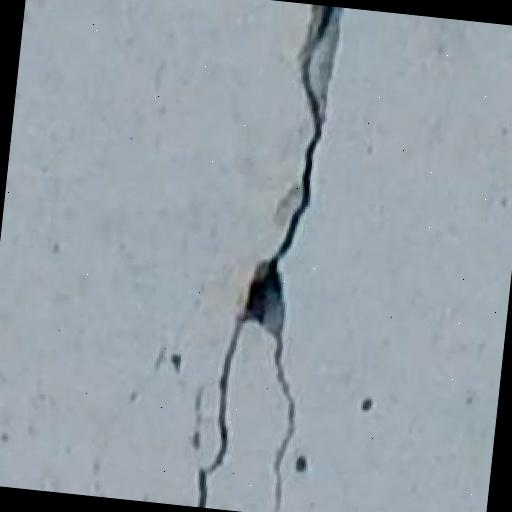spalling: (174, 7, 352, 509)
